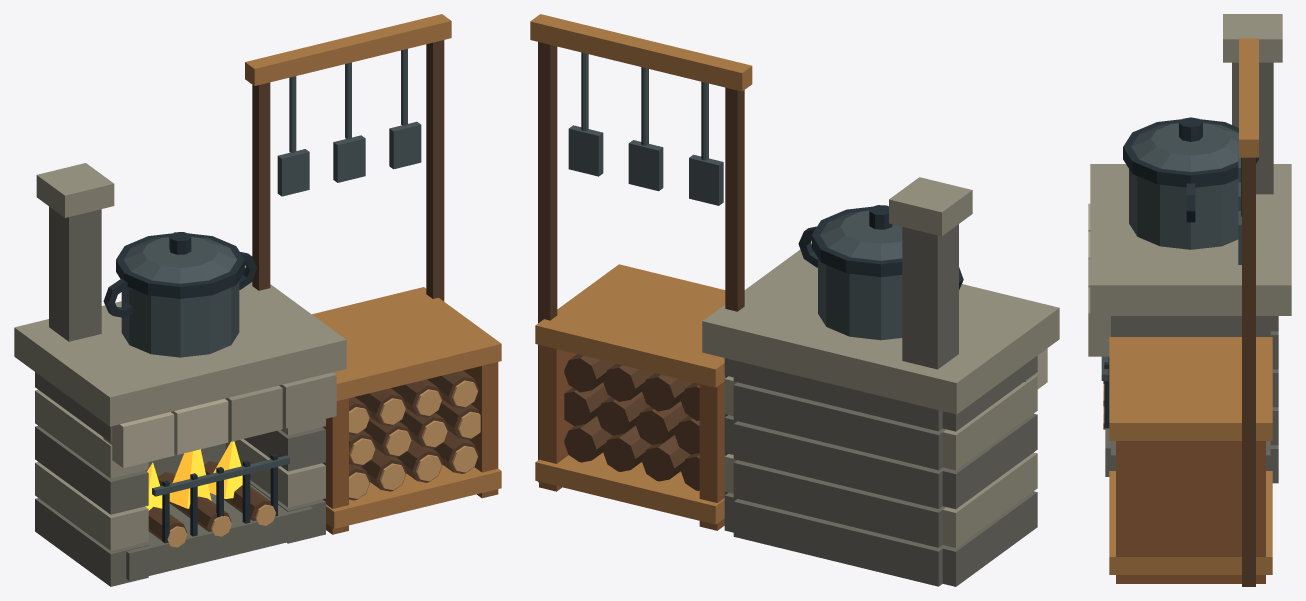
Rendered from kitchen_stove.glb.
3 views of the same model, side by side, from view 1: azimuth 30°, elevation 25°; view 2: azimuth 150°, elevation 25°; view 3: azimuth 270°, elevation 25° (orthographic). The views are drawn at different scales.
Visible parts, largest first — view 1: body__stone.005, body__stone_dark.004, body__wood2.006, body__wood_dark.005, cooking_pot__metal, body__endgrain, body__metal.010, body__stone2.003, body__wood.006, cooking_pot__dark, body__fire, body__dark.004; view 2: body__stone_dark.004, body__stone.005, body__wood2.006, body__wood_dark.005, cooking_pot__metal, body__metal.010, body__wood.006, cooking_pot__dark; view 3: body__stone.005, body__wood2.006, body__wood.006, cooking_pot__metal, body__stone_dark.004, body__wood_dark.005, cooking_pot__dark, body__metal.010, body__dark.004.
Part boxes in pixels (<box>): body__stone.005: <box>14,163,346,550</box>; body__stone_dark.004: <box>35,206,325,586</box>; body__wood2.006: <box>245,14,501,528</box>; body__wood_dark.005: <box>148,40,478,540</box>; cooking_pot__metal: <box>121,237,239,357</box>; body__endgrain: <box>167,380,480,547</box>; body__metal.010: <box>152,49,421,496</box>; body__stone2.003: <box>103,398,228,467</box>; body__wood.006: <box>322,362,498,534</box>; cooking_pot__dark: <box>103,232,256,318</box>; body__fire: <box>145,441,242,510</box>; body__dark.004: <box>162,453,277,543</box>; body__stone_dark.004: <box>724,224,1037,586</box>; body__stone.005: <box>702,177,1059,547</box>; body__wood2.006: <box>530,14,752,524</box>; body__wood_dark.005: <box>538,42,744,494</box>; cooking_pot__metal: <box>818,210,902,340</box>; body__metal.010: <box>568,52,723,205</box>; body__wood.006: <box>539,345,725,530</box>; cooking_pot__dark: <box>798,205,963,289</box>; body__stone.005: <box>1088,14,1291,451</box>; body__wood2.006: <box>1109,38,1272,574</box>; body__wood.006: <box>1116,441,1265,583</box>; cooking_pot__metal: <box>1129,123,1238,249</box>; body__stone_dark.004: <box>1105,62,1278,483</box>; body__wood_dark.005: <box>1242,157,1255,586</box>; cooking_pot__dark: <box>1123,117,1258,222</box>; body__metal.010: <box>1101,153,1241,380</box>; body__dark.004: <box>1104,357,1109,428</box>.
Bounding box in the file's own units: 2.51 × 2.49 × 1.02.
